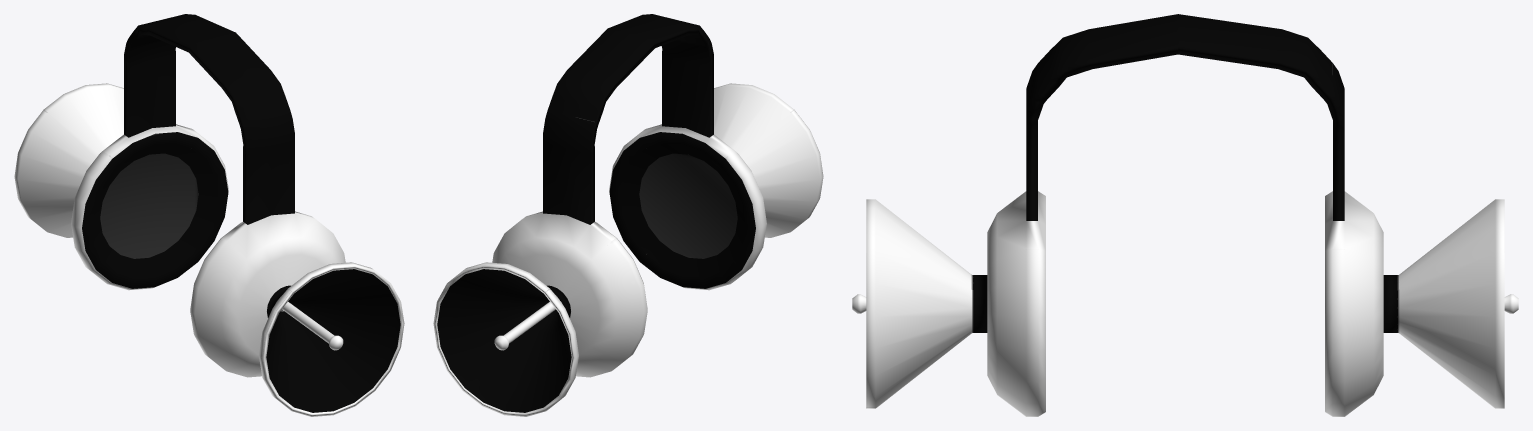
File: prp_headphones.fbx
3 renders of one model, left to right at view 1: azimuth 30°, elevation 25°; view 2: azimuth 150°, elevation 25°; view 3: azimuth 270°, elevation 25°, orthographic. The views are drawn at different scales.
Parts seen in each view (by area): view 1: pCylinder1; view 2: pCylinder1; view 3: pCylinder1.
Boxes of the visible parts, x1=… form: pCylinder1: x1=14, y1=14, x2=404, y2=416; pCylinder1: x1=433, y1=14, x2=823, y2=416; pCylinder1: x1=852, y1=14, x2=1518, y2=416.
Bounding box in the file's own units: 2 × 3.67 × 5.86.
1 material, 1 textured.
